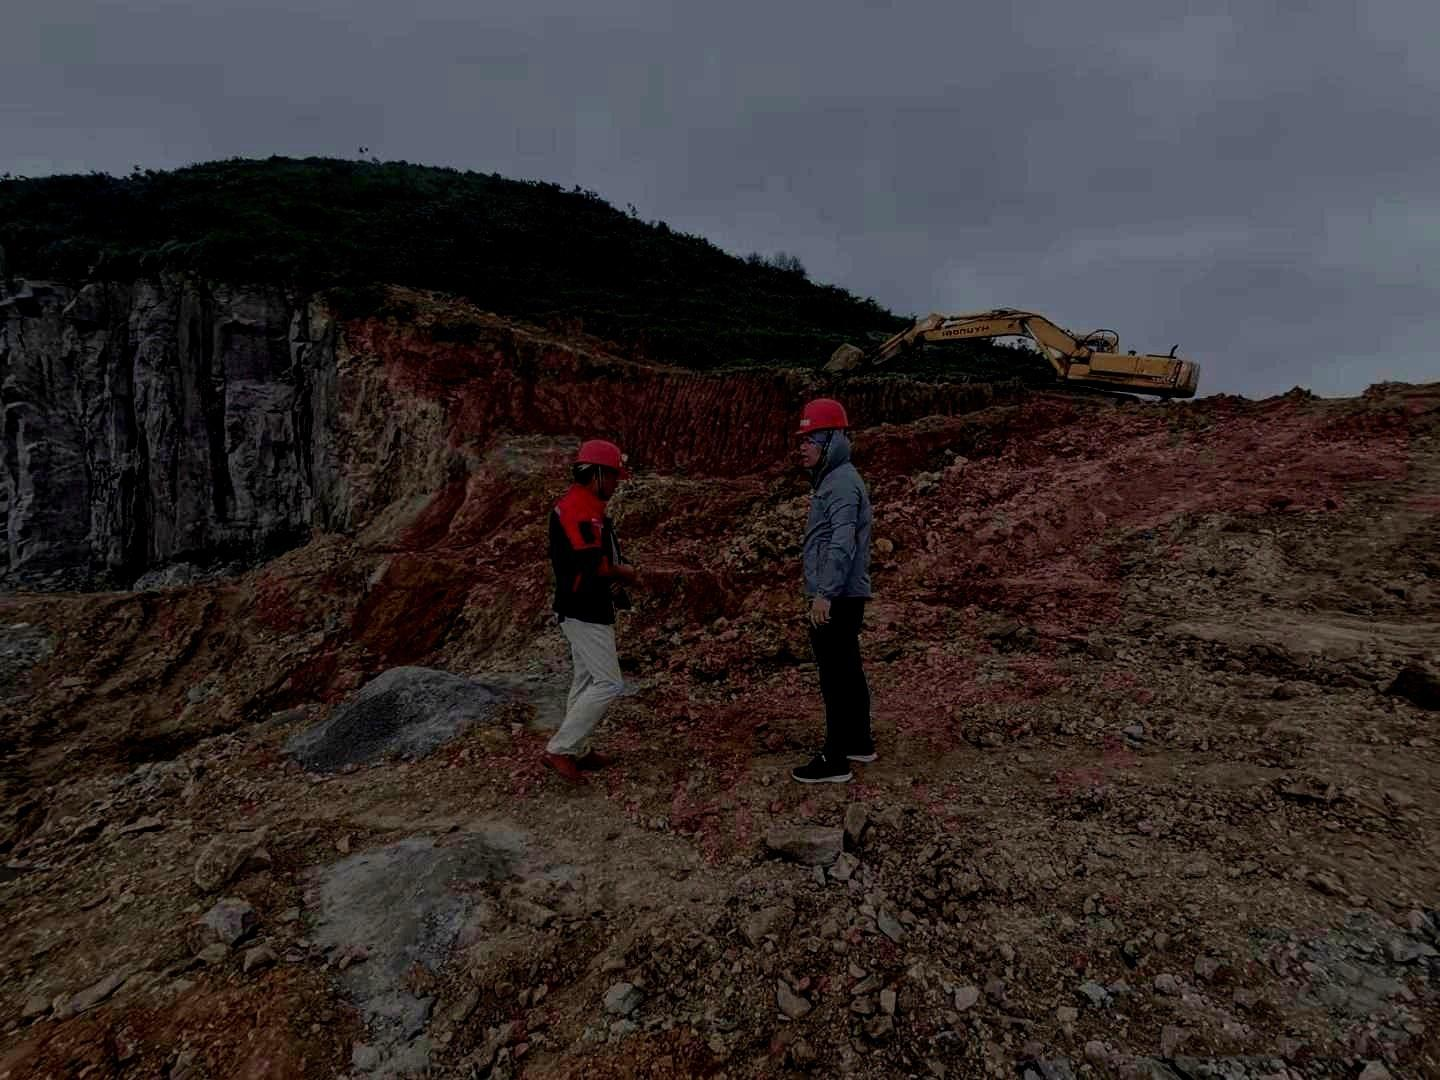helmet: (793, 397, 852, 469), (570, 438, 632, 501)
